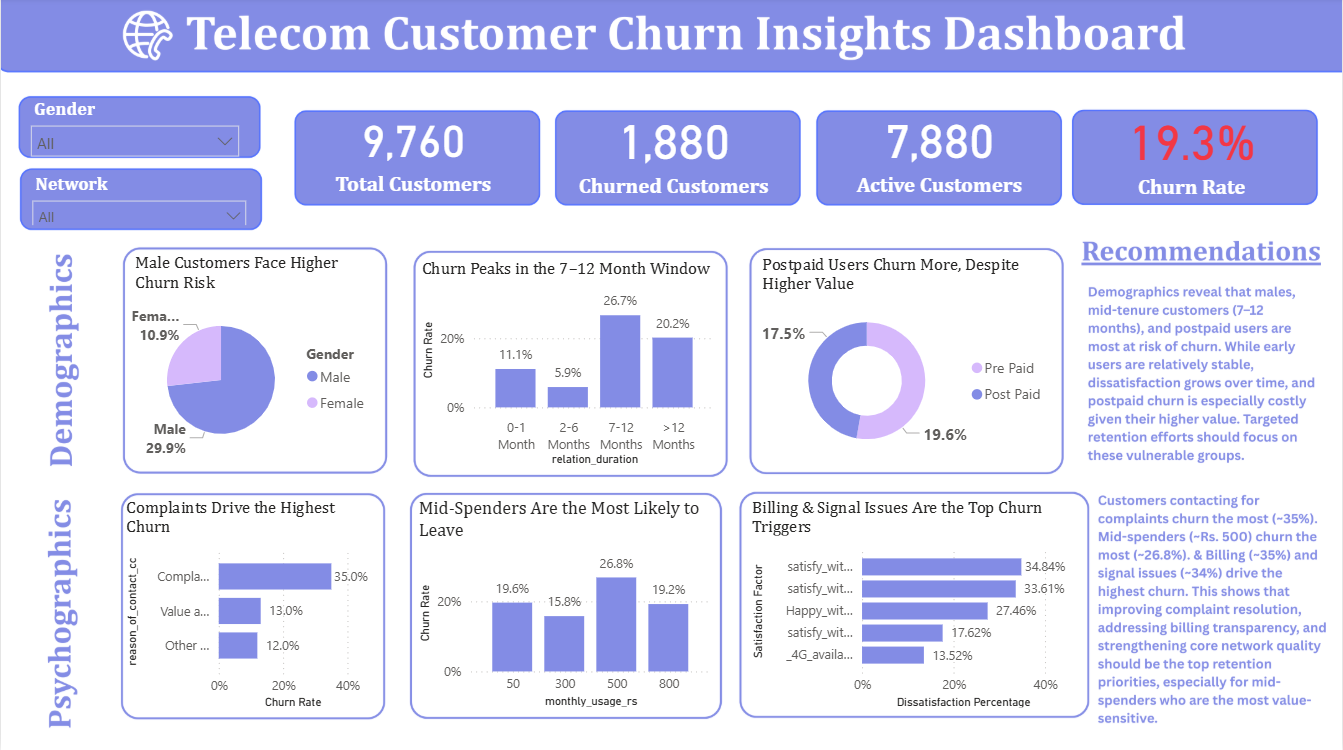

The dashboard page shown, as its layout file describes it:
{"tool":"powerbi","page":{"name":"Page 1","canvas":[1280,720],"ordinal":0},"visuals":[{"type":"card","fields":{"Values":["Telecom_Churn.Total Customers"]},"box":[287,96,214,99],"z":0},{"type":"card","fields":{"Values":["Telecom_Churn.Churned Customers"]},"box":[527.5,96.2,230,98.8],"z":1000},{"type":"card","fields":{"Values":["Telecom_Churn.Active Customers"]},"box":[776.2,95,238.8,101.2],"z":2000},{"type":"card","fields":{"Values":["Telecom_Churn.Churn Rate"]},"box":[1020,97.5,233.8,96.2],"z":3000},{"type":"pieChart","title":"Male Customers Face Higher Churn Risk","fields":{"Category":["Telecom_Churn.Gender"],"Y":["Telecom_Churn.Churn Rate"]},"box":[123.2,243.5,239.2,206.3],"z":4000},{"type":"donutChart","title":"Postpaid Users Churn More, Despite Higher Value","fields":{"Category":["Telecom_Churn.service_type"],"Y":["Telecom_Churn.Churn Rate"]},"box":[722,245,285,205],"z":5000},{"type":"columnChart","title":"Churn Peaks in the 7–12 Month Window","fields":{"Category":["relation duration.relation_duration"],"Y":["Telecom_Churn.Churn Rate"]},"box":[396.9,249.2,290,202.3],"z":6000},{"type":"clusteredBarChart","title":"Complaints Drive the Highest Churn","fields":{"Category":["Telecom_Churn.reason_of_contact_cc"],"Y":["Telecom_Churn.Churn Rate"]},"box":[115,477,252,207],"z":7000},{"type":"clusteredColumnChart","title":"Mid-Spenders Are the Most Likely to Leave","fields":{"Y":["Telecom_Churn.Churn Rate"],"Category":["Telecom_Churn.monthly_usage_rs"]},"box":[394.3,477.1,288.6,205.7],"z":8000},{"type":"clusteredBarChart","title":"Billing & Signal Issues Are the Top Churn Triggers","fields":{"Category":["Dissatisfaction Analysis.Satisfaction Factor"],"Y":["Dissatisfaction Analysis.Dissatisfaction Percentage"]},"box":[711.9,477,320.9,206.3],"z":9000},{"type":"slicer","fields":{"Values":["Telecom_Churn.Gender"]},"box":[18.6,90,218.6,71.4],"z":10000},{"type":"slicer","fields":{"Values":["Telecom_Churn.Network"]},"box":[20,161.4,224.3,55.7],"z":11000}]}

Visuals, with their boxes in screenshot pixels (x1, y1, x2, y2), scaled from the page's 1280x720 canvas onto the 1343x750 screenshot:
card - Telecom_Churn.Total Customers: [x1=301, y1=100, x2=526, y2=203]
card - Telecom_Churn.Churned Customers: [x1=553, y1=100, x2=795, y2=203]
card - Telecom_Churn.Active Customers: [x1=814, y1=99, x2=1065, y2=204]
card - Telecom_Churn.Churn Rate: [x1=1070, y1=102, x2=1316, y2=202]
"Male Customers Face Higher Churn Risk" pieChart: [x1=129, y1=254, x2=380, y2=469]
"Postpaid Users Churn More, Despite Higher Value" donutChart: [x1=758, y1=255, x2=1057, y2=469]
"Churn Peaks in the 7–12 Month Window" columnChart: [x1=416, y1=260, x2=721, y2=470]
"Complaints Drive the Highest Churn" clusteredBarChart: [x1=121, y1=497, x2=385, y2=712]
"Mid-Spenders Are the Most Likely to Leave" clusteredColumnChart: [x1=414, y1=497, x2=717, y2=711]
"Billing & Signal Issues Are the Top Churn Triggers" clusteredBarChart: [x1=747, y1=497, x2=1084, y2=712]
slicer - Telecom_Churn.Gender: [x1=20, y1=94, x2=249, y2=168]
slicer - Telecom_Churn.Network: [x1=21, y1=168, x2=256, y2=226]
